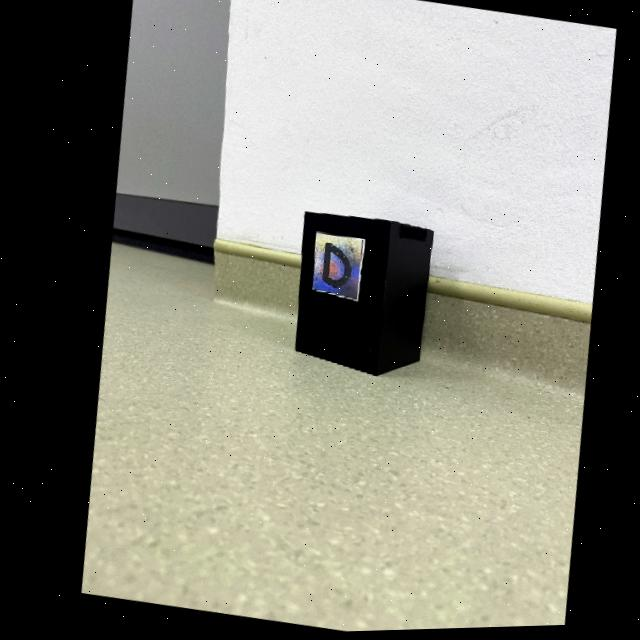D: (317, 245, 345, 289)
